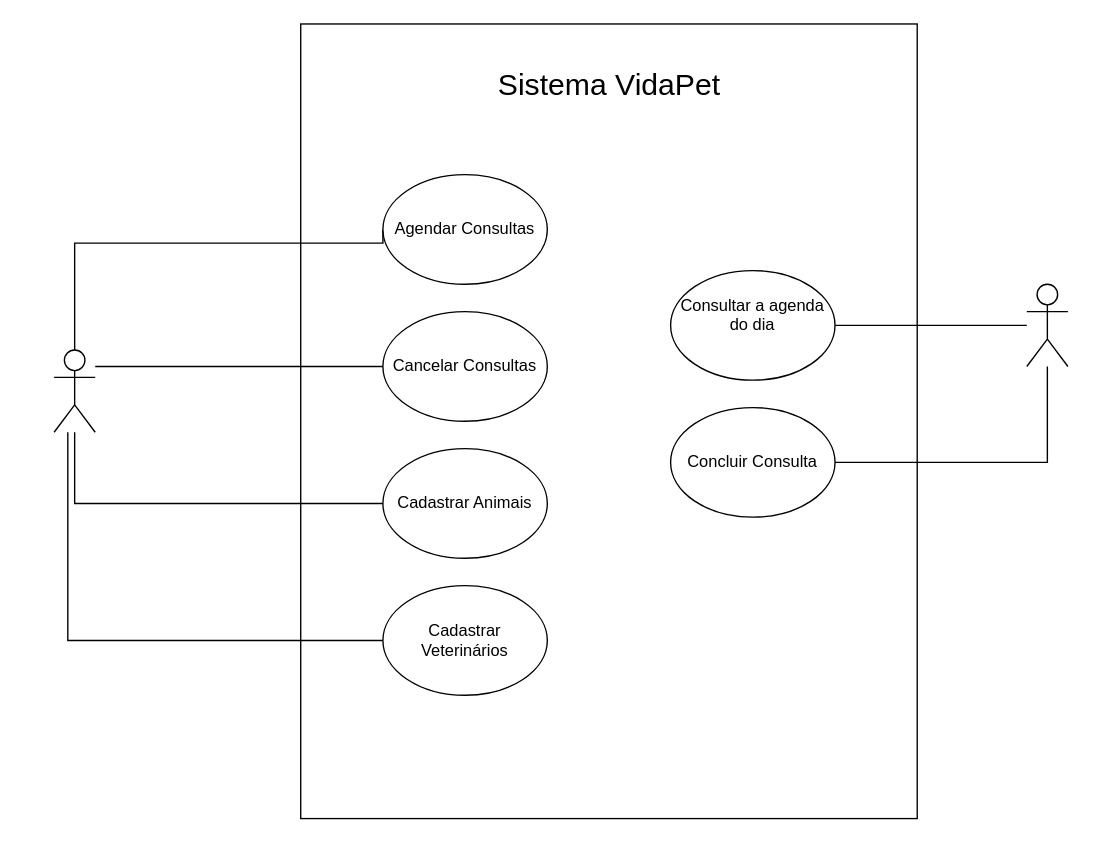
The diagram is 1110 pixels wide and 843 high, and some of its shapes have lost their labels. Here are the shapes that lost their labels. From the top down, the centre of each, then its label:
At (x=1046, y=324): "Veterinário".
At (x=74, y=390): "Recepcionista".
